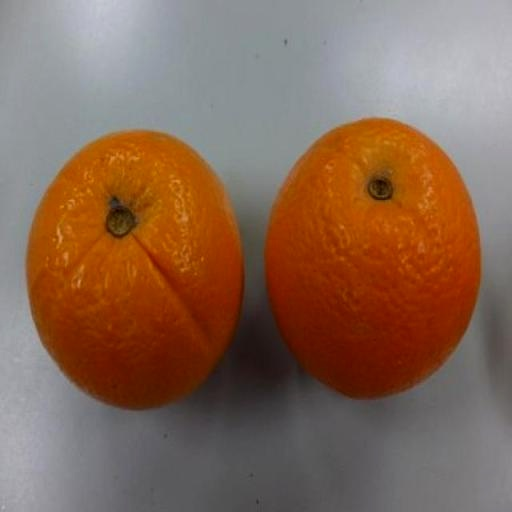fruit: (130, 134, 408, 460), (12, 148, 52, 484)
